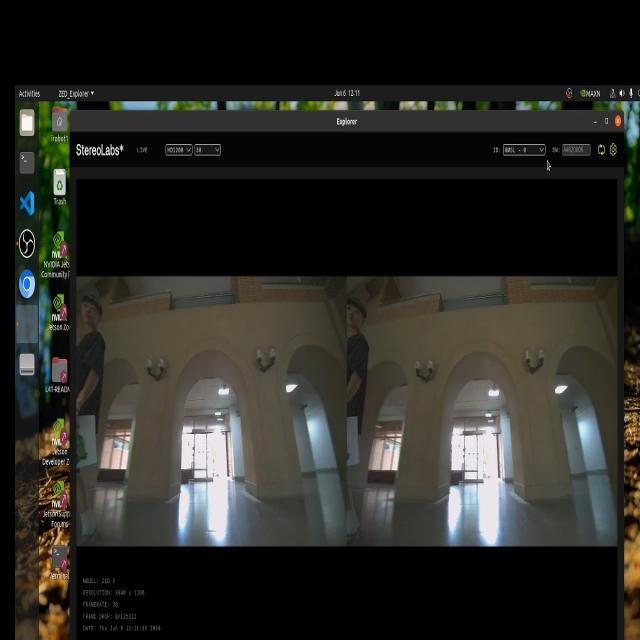green: (77, 426, 87, 468)
